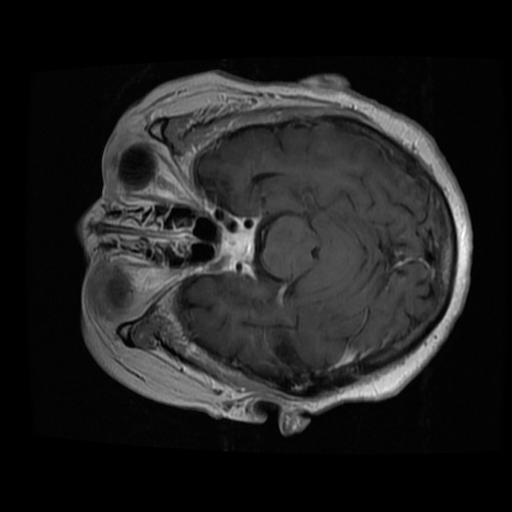pituitary tumour: (219, 231, 252, 262)
